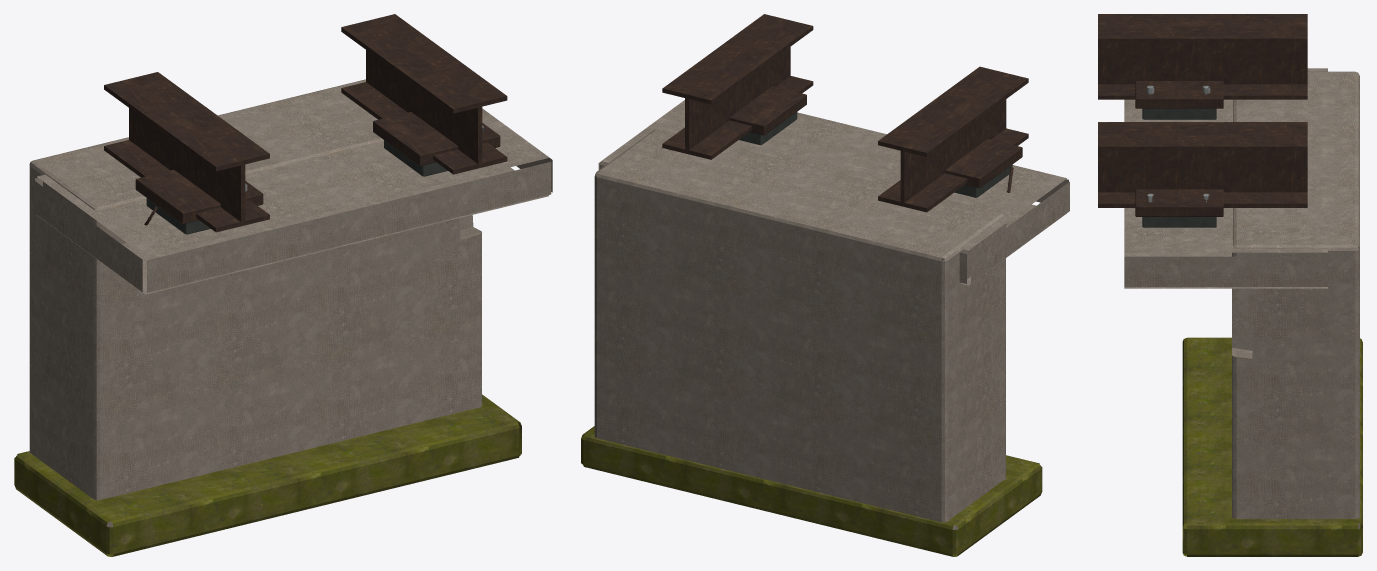
File: lod1_NOT_APPROVED.glb
3 renders of one model, left to right at view 1: azimuth 30°, elevation 25°; view 2: azimuth 150°, elevation 25°; view 3: azimuth 270°, elevation 25°, orthographic. The views are drawn at different scales.
Parts seen in each view (by area): view 1: f3_weathered_concrete_surface, f3_oxidized_iron_surface, f3_damp_concrete_surface, f3_aged_rubber_surface; view 2: f3_weathered_concrete_surface, f3_oxidized_iron_surface, f3_damp_concrete_surface, f3_aged_rubber_surface; view 3: f3_weathered_concrete_surface, f3_oxidized_iron_surface, f3_damp_concrete_surface, f3_aged_rubber_surface.
Part boxes in pixels (x1,y1,x2,y2): f3_weathered_concrete_surface: [29, 79, 552, 527]; f3_oxidized_iron_surface: [104, 14, 507, 232]; f3_damp_concrete_surface: [14, 394, 521, 556]; f3_aged_rubber_surface: [146, 140, 447, 234]; f3_weathered_concrete_surface: [594, 100, 1069, 529]; f3_oxidized_iron_surface: [662, 14, 1028, 212]; f3_damp_concrete_surface: [581, 426, 1042, 556]; f3_aged_rubber_surface: [739, 112, 1012, 197]; f3_weathered_concrete_surface: [1124, 68, 1359, 529]; f3_oxidized_iron_surface: [1098, 14, 1307, 216]; f3_damp_concrete_surface: [1182, 337, 1362, 556]; f3_aged_rubber_surface: [1142, 108, 1216, 227].
Bounding box in the file's own units: 3.85 × 3.64 × 2.27.
5 materials, 5 textured.
